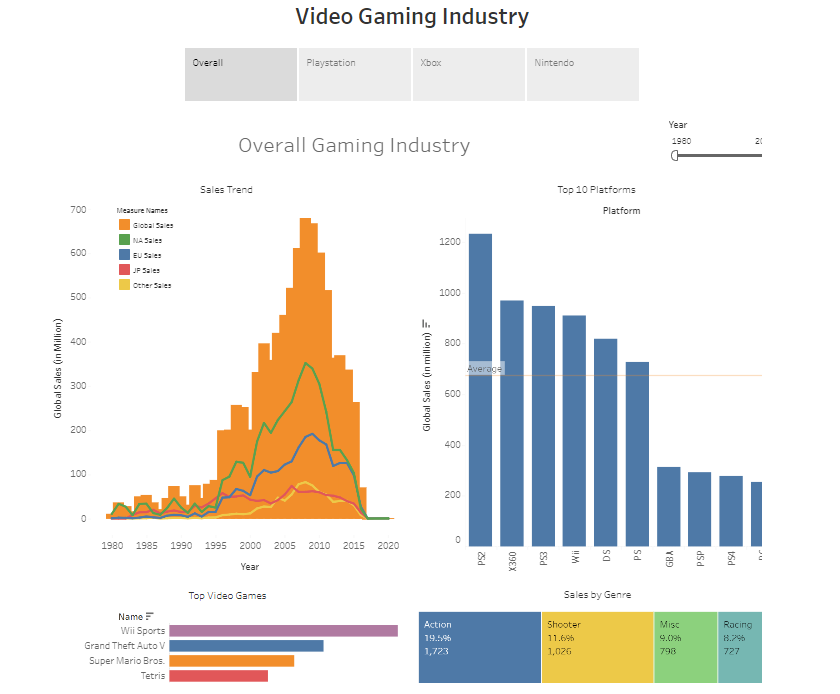

The dashboard page shown, as its layout file describes it:
{"tool":"tableau","page":{"name":"Overall - db","canvas":[1000,1200],"ordinal":1},"visuals":[{"type":"text","box":[8,8,830.2,78.9]},{"type":"filter","title":"Gaming Industry Sales Trend -o","param":"[federated.1suk3yt01tofc416ttgwf1c6x0rv].[none:Year:qk]","box":[838.2,8,153.8,78.9]},{"type":"worksheet","title":"Gaming Industry Sales Trend -o","mark":"Automatic","rows":["Global_Sales"],"cols":["Year"],"box":[8,86.9,492,540.9]},{"type":"worksheet","title":"Top 10 plafrom -o","mark":"Bar","rows":["Global_Sales"],"cols":["Platform"],"box":[500,86.9,492,540.6]},{"type":"legend","title":"Gaming Industry Sales Trend -o","param":"[federated.1suk3yt01tofc416ttgwf1c6x0rv].[:Measure Names]","box":[105.8,130,116.7,151]},{"type":"worksheet","title":"Sales by Genre -o","mark":"Automatic","box":[500,627.5,492,564.5]},{"type":"worksheet","title":"Top Video Games - o","mark":"Automatic","rows":["Name"],"cols":["Global_Sales"],"box":[8,627.8,492,564.2]},{"type":"legend","title":"Top Video Games - o","param":"[federated.1suk3yt01tofc416ttgwf1c6x0rv].[none:Genre:nk]","box":[355,824,184,269]}]}

Visuals, with their boxes on the page's 1000x1200 design canvas (x1, y1, x2, y2). These are canvas units, not pixel positions in the 840x694 screenshot, which may show the page scaled, cropped or inside an application window:
text: bbox(8, 8, 838, 87)
"Gaming Industry Sales Trend -o" filter: bbox(838, 8, 992, 87)
"Gaming Industry Sales Trend -o" worksheet: bbox(8, 87, 500, 628)
"Top 10 plafrom -o" worksheet (Bar marks): bbox(500, 87, 992, 628)
"Gaming Industry Sales Trend -o" legend: bbox(106, 130, 222, 281)
"Sales by Genre -o" worksheet: bbox(500, 628, 992, 1192)
"Top Video Games - o" worksheet: bbox(8, 628, 500, 1192)
"Top Video Games - o" legend: bbox(355, 824, 539, 1093)
